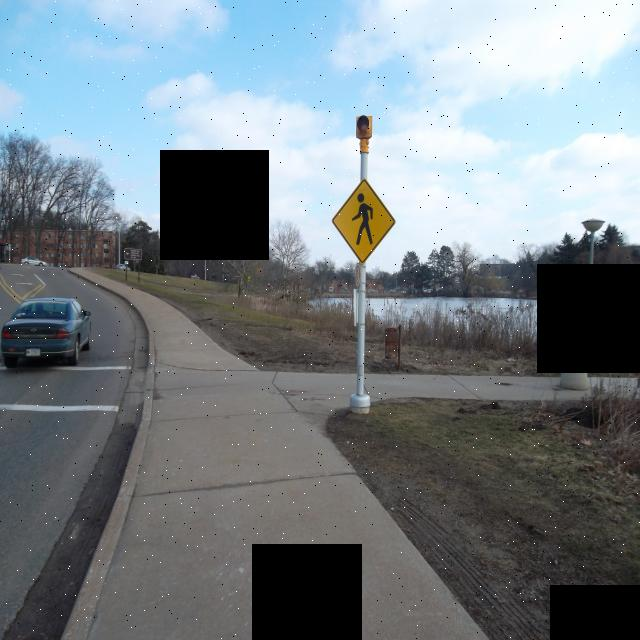warning: (331, 174, 399, 270)
